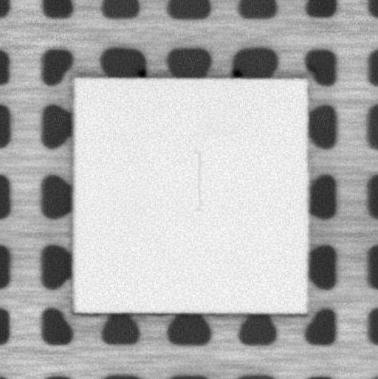DIE_CRACK: (193, 150, 205, 213)
